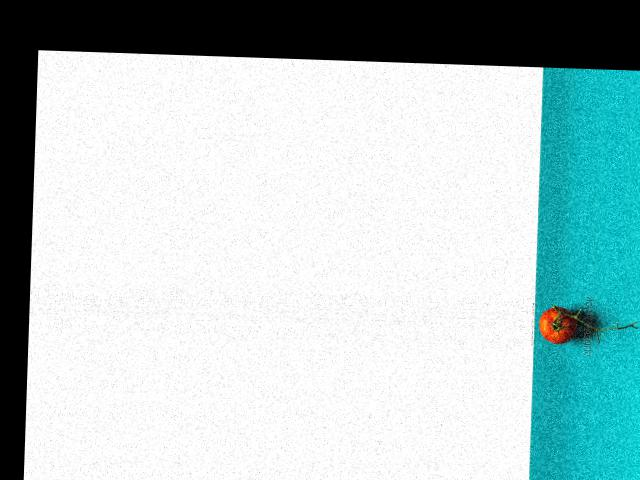tomato: (539, 305, 576, 344)
